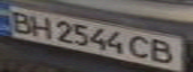2: (51, 17, 75, 45)
4: (87, 25, 109, 52), (106, 29, 127, 55)
5: (69, 21, 90, 48)
B: (148, 36, 184, 66), (3, 8, 39, 35)
C: (127, 33, 157, 62)
H: (24, 12, 57, 39)
